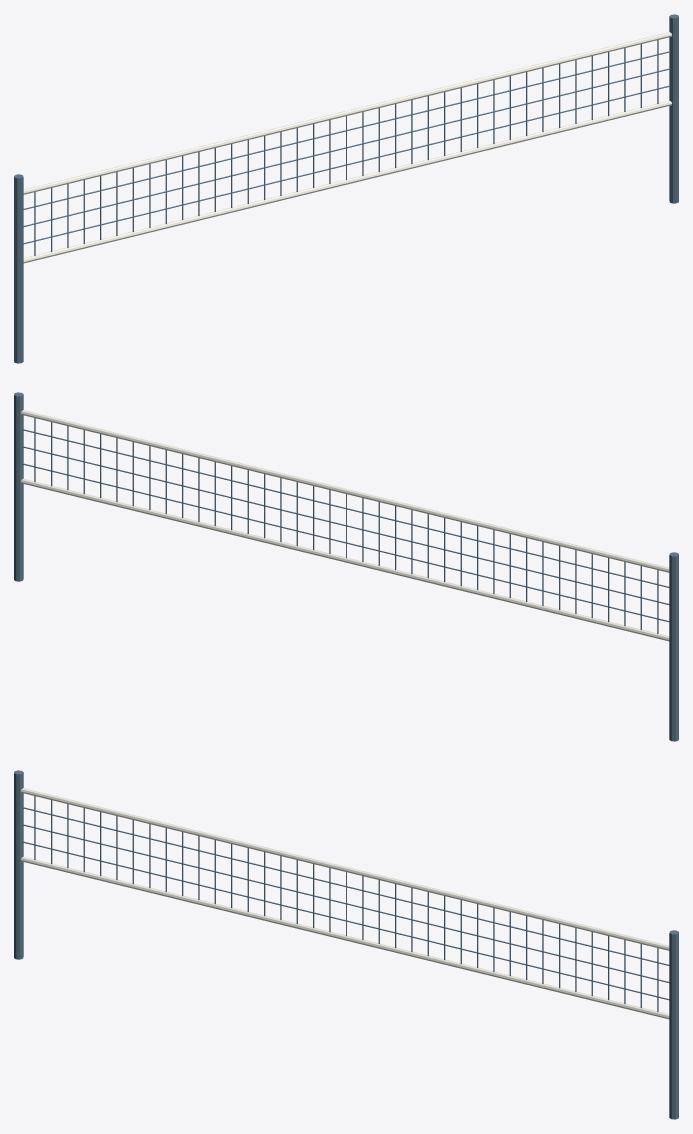
File: volley-net.glb
3 views of the same model, one above another, from view 1: azimuth 30°, elevation 25°; view 2: azimuth 150°, elevation 25°; view 3: azimuth 330°, elevation 25° (orthographic).
Parts seen in each view (by area): view 1: Cilindro; view 2: Cilindro; view 3: Cilindro.
Boxes of the visible parts, left/top/right/bottom form: Cilindro: left=14, top=14, right=678, bottom=363; Cilindro: left=14, top=392, right=678, bottom=741; Cilindro: left=14, top=770, right=678, bottom=1119.
Bounding box in the file's own units: 10.13 × 2.7 × 0.13.
